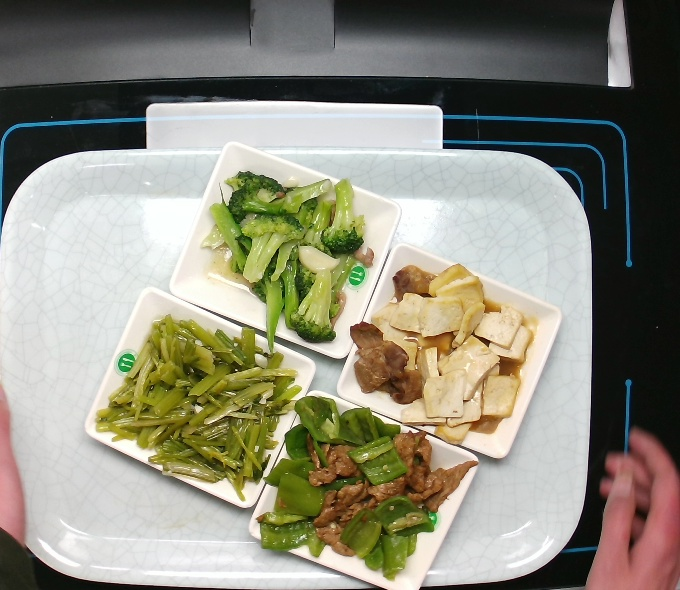wcq-DouFuRouPian: (344, 266, 540, 450)
wcq-QinCai: (95, 318, 292, 491)
wcq-QingJiaoChaoRou: (240, 390, 481, 590)
wcq-XiLanHua: (204, 161, 379, 349)
